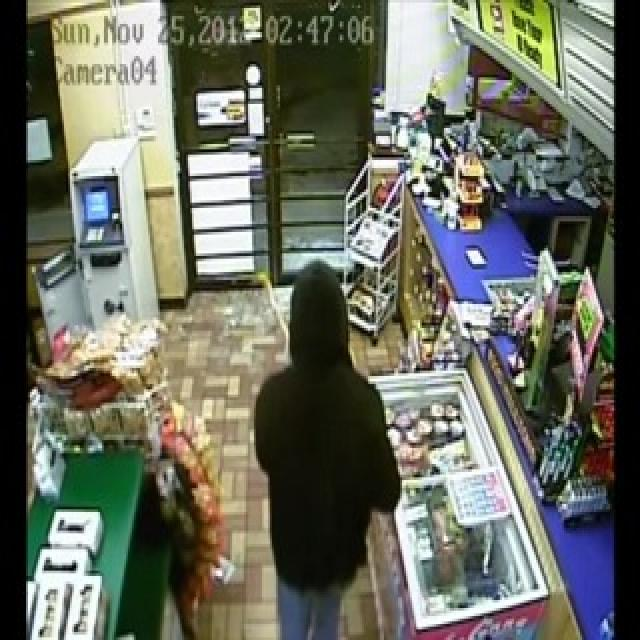thief: (255, 262, 402, 640)
